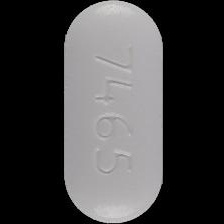63187-630: (0, 0, 224, 224)
